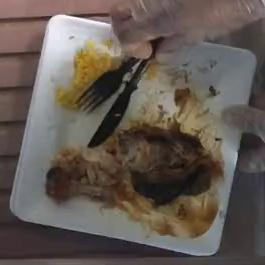rice: (57, 40, 111, 109)
